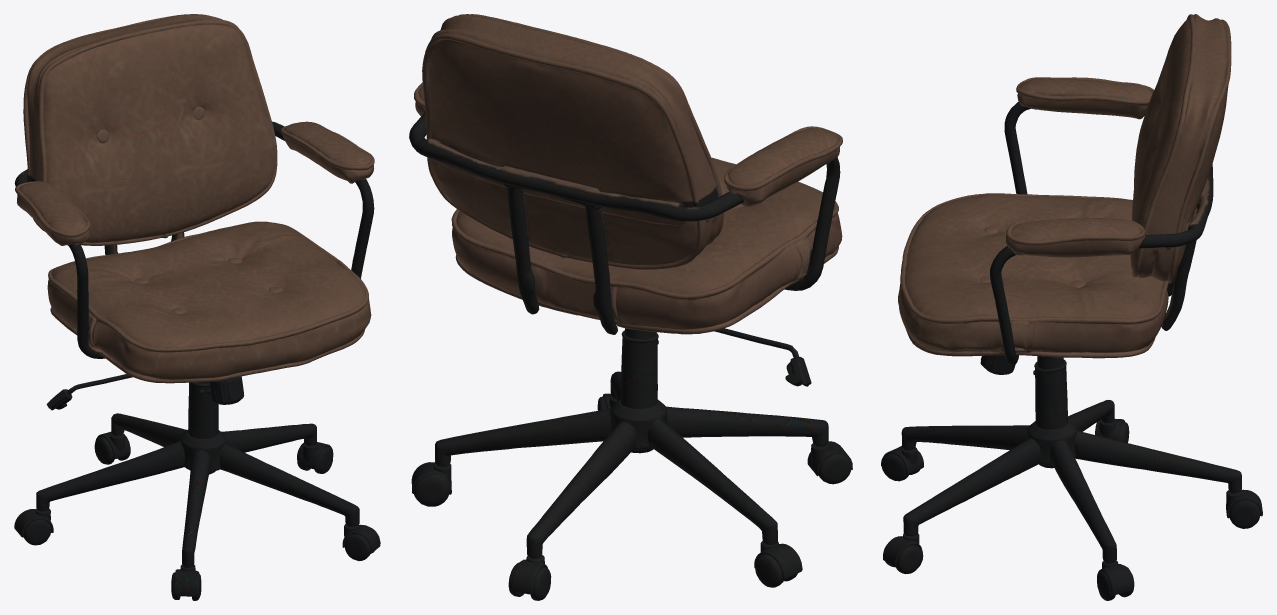
Rendered from cadeira.glb.
3 views of the same model, side by side, from view 1: azimuth 30°, elevation 25°; view 2: azimuth 150°, elevation 25°; view 3: azimuth 270°, elevation 25° (orthographic). The views are drawn at different scales.
Size of the model in its own units: 1.42 by 1.9 by 1.38.
1 material, 1 textured.
